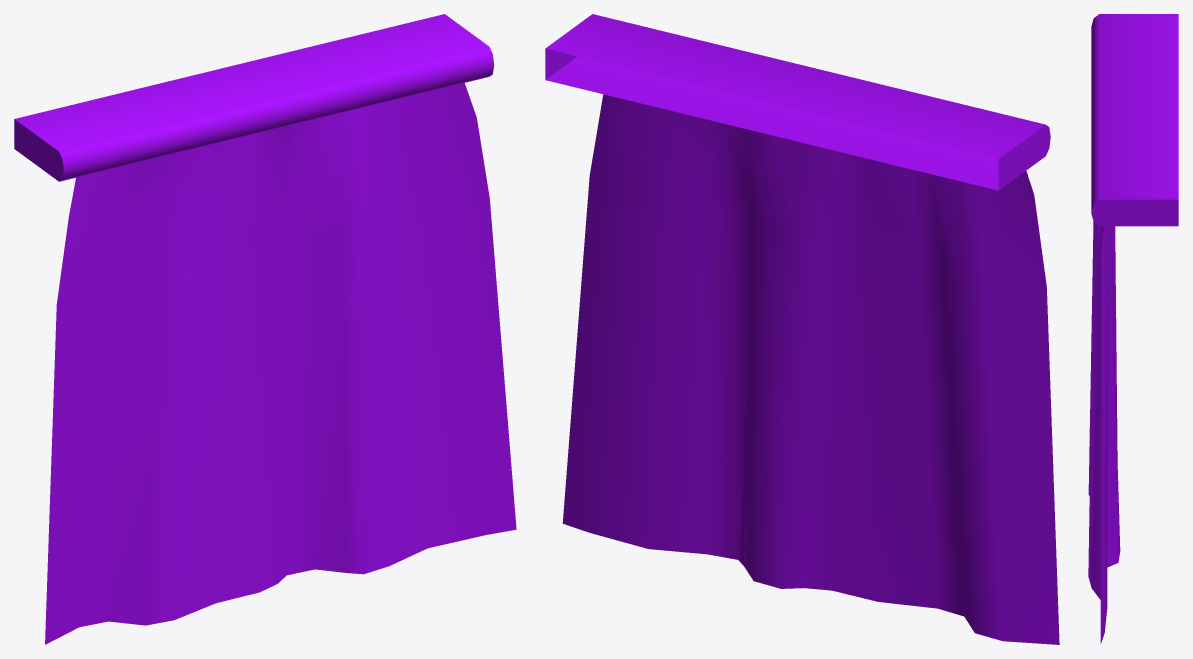
Rendered from Curtain.fbx.
The picture shows the model from 3 angles, left to right: view 1: azimuth 30°, elevation 25°; view 2: azimuth 150°, elevation 25°; view 3: azimuth 270°, elevation 25°; orthographic projection. The views are drawn at different scales.
Parts seen in each view (by area): view 1: Curtain; view 2: Curtain; view 3: Curtain.
Part boxes in pixels (x1,y1,x2,y2): Curtain: (14, 14, 516, 644); Curtain: (545, 14, 1059, 644); Curtain: (1088, 14, 1178, 643).
Size of the model in its own units: 164 by 163 by 30.79.
